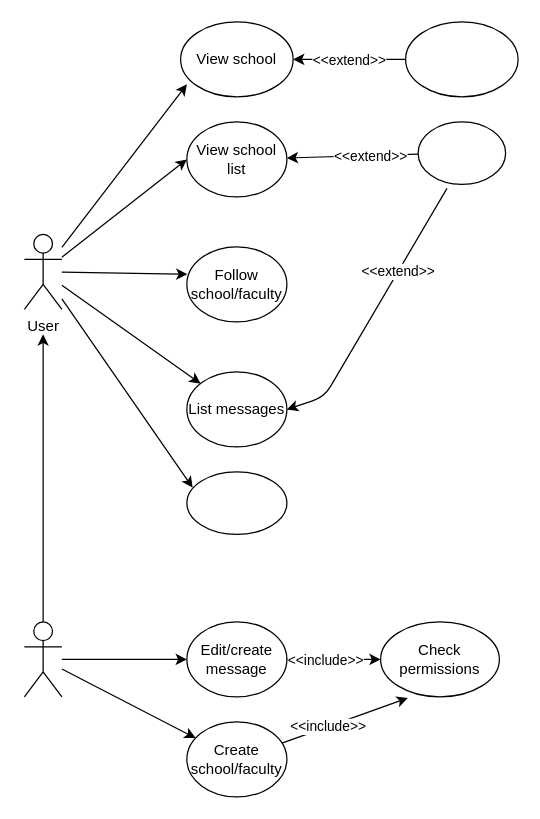
The diagram is 540 pixels wide and 819 high, and some of its shapes have lost their labels. Here are the shapes that lost their labels. From the top down, the box of each, then its label:
(404, 21, 518, 97): View faculties
(417, 121, 506, 184): Filter
(186, 471, 287, 534): View message
(23, 621, 62, 697): Admin
